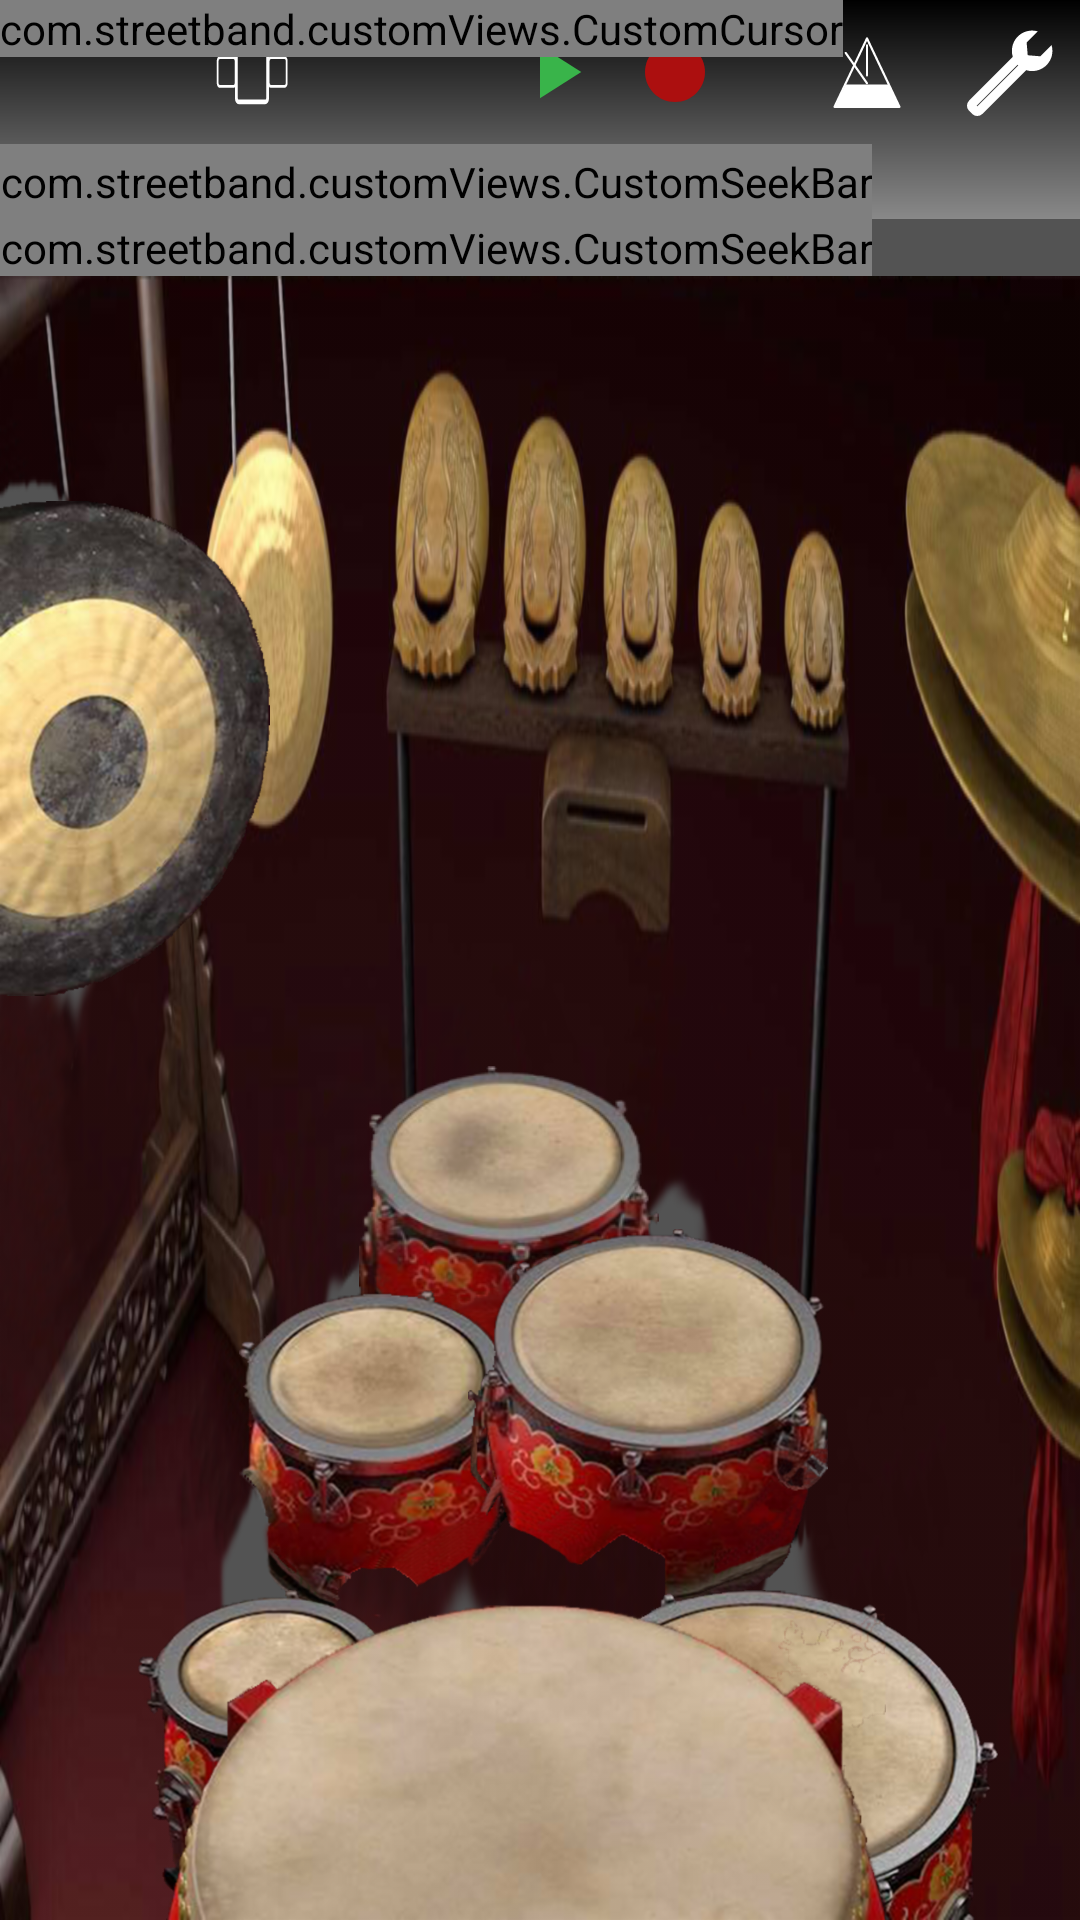

Named icons in this screenshot (1080×1920) and their centers, (x,y):
settings: (1011,72)
